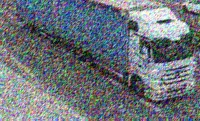truck: (16, 1, 196, 102)
